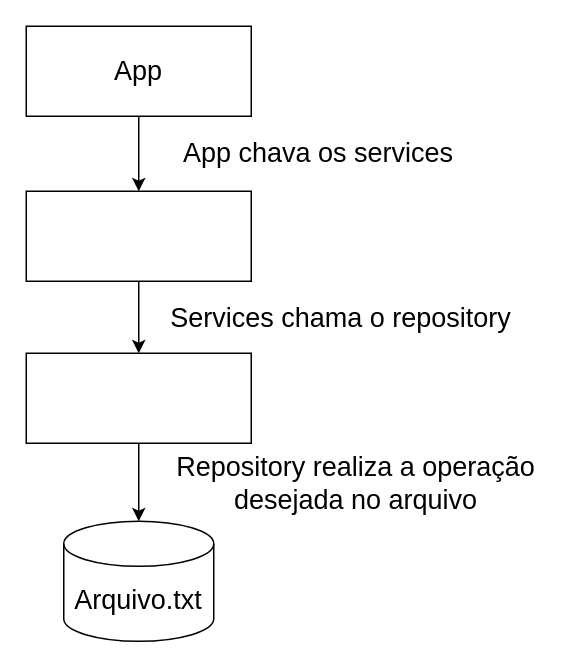
The diagram is 578 pixels wide and 668 high, and some of its shapes have lost their labels. Each missing label, with the box of its shape:
Repository: (25, 352, 251, 443)
Services: (25, 190, 251, 281)
